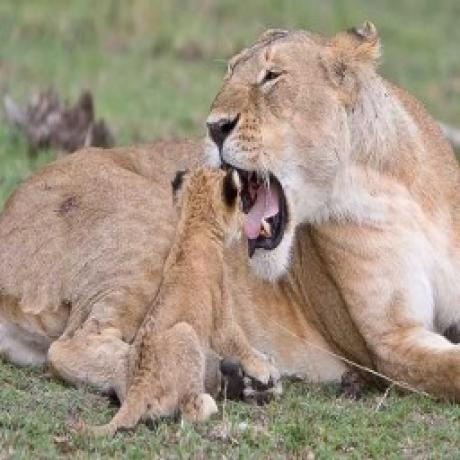Lion: (0, 19, 460, 401), (68, 165, 271, 442)
